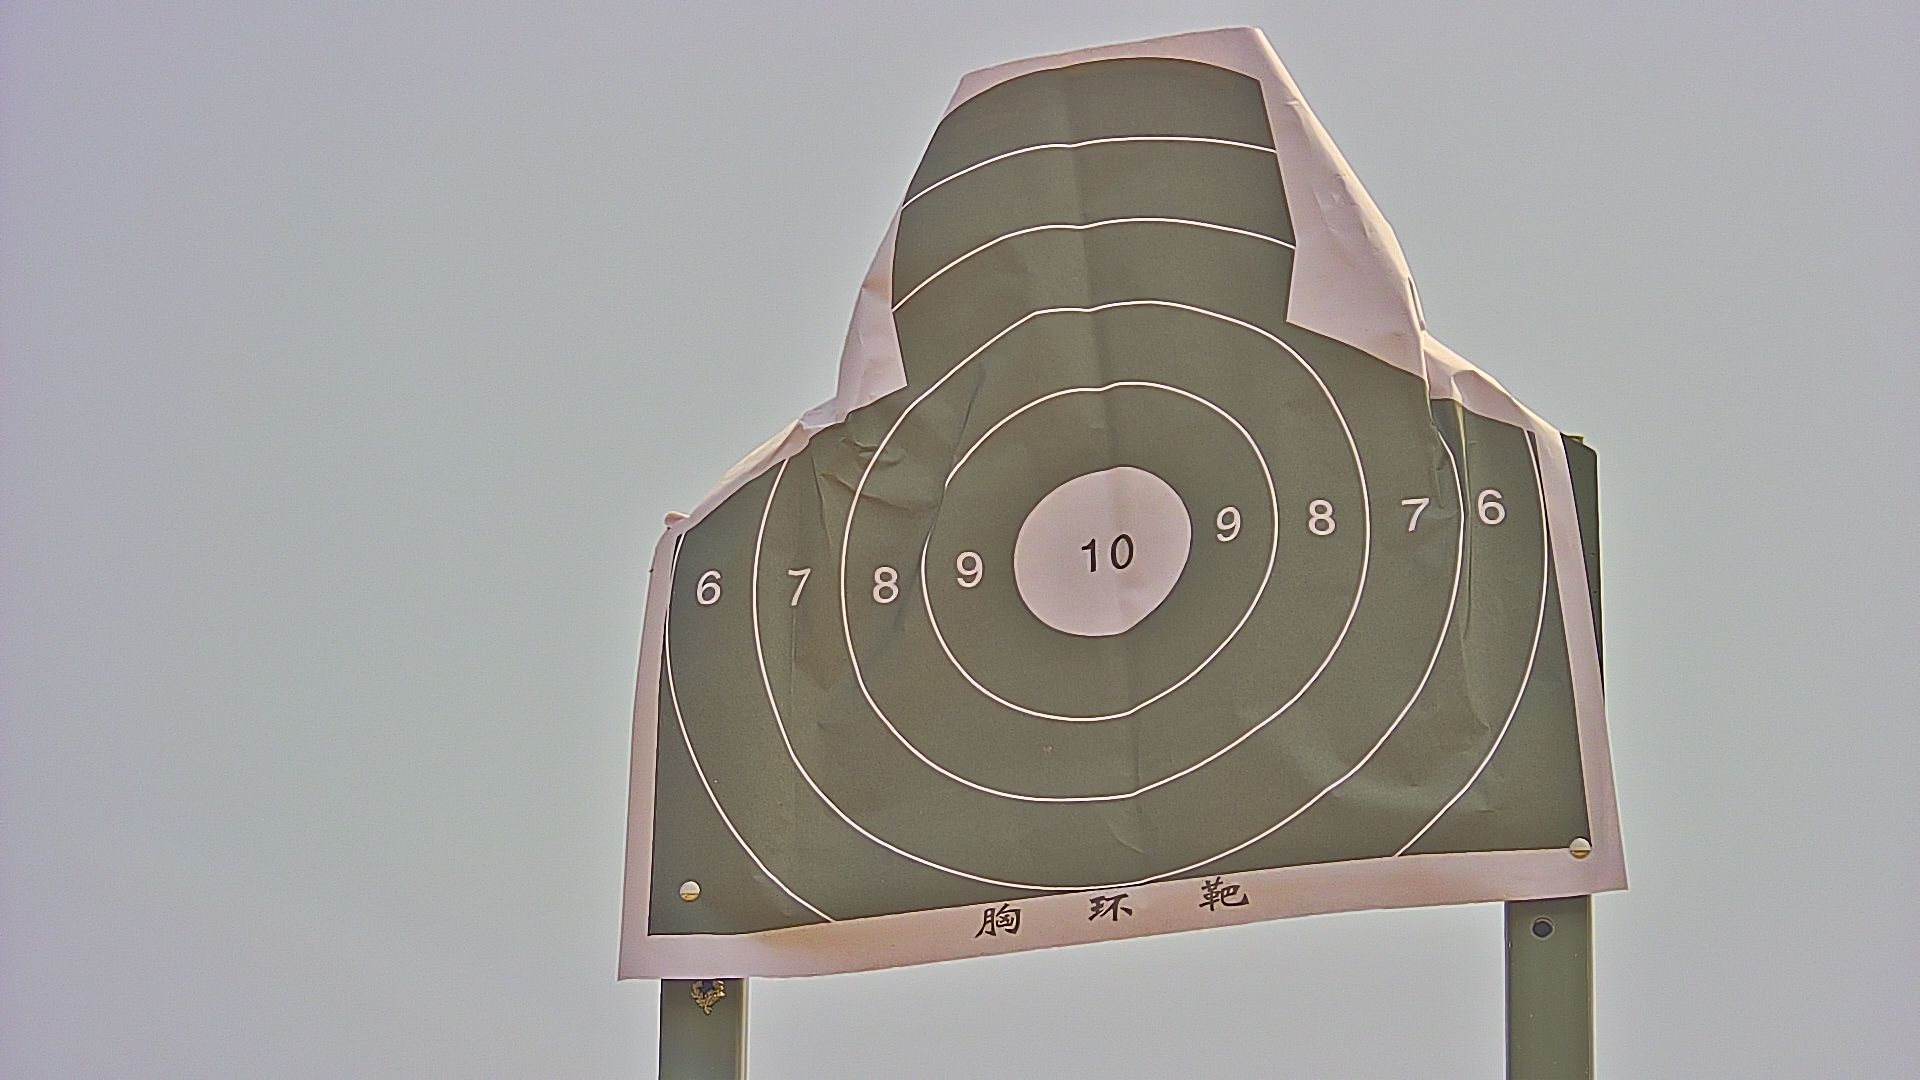target: (650, 54, 1593, 934)
ten: (1010, 464, 1192, 640)
